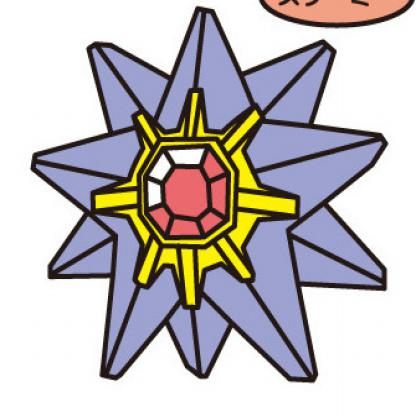Starmie: (37, 1, 393, 391)
